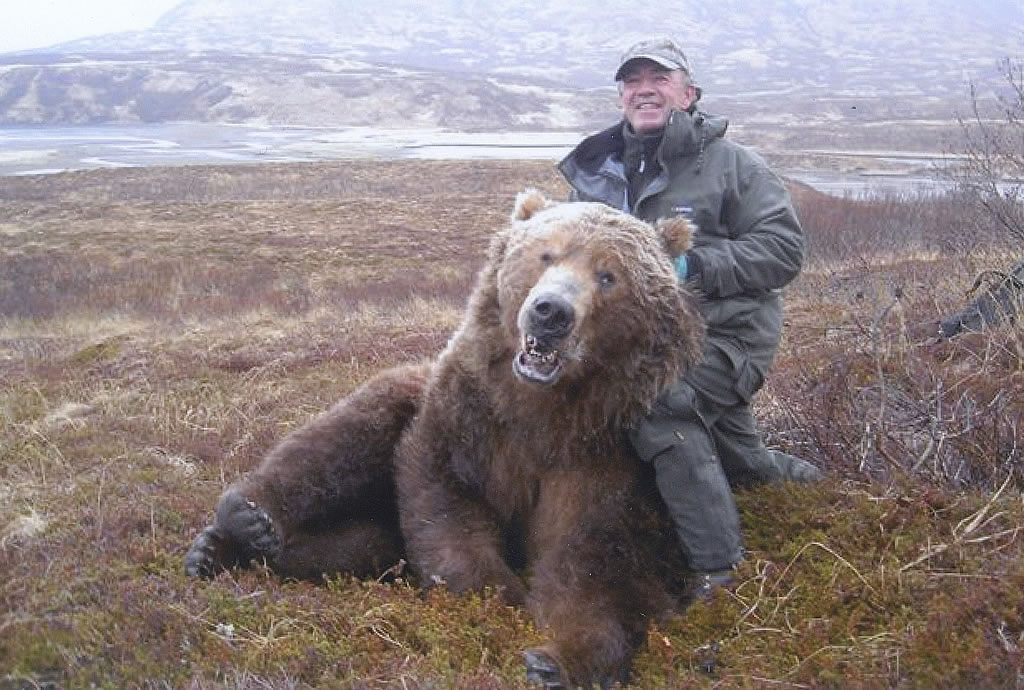bear: (490, 186, 705, 392)
